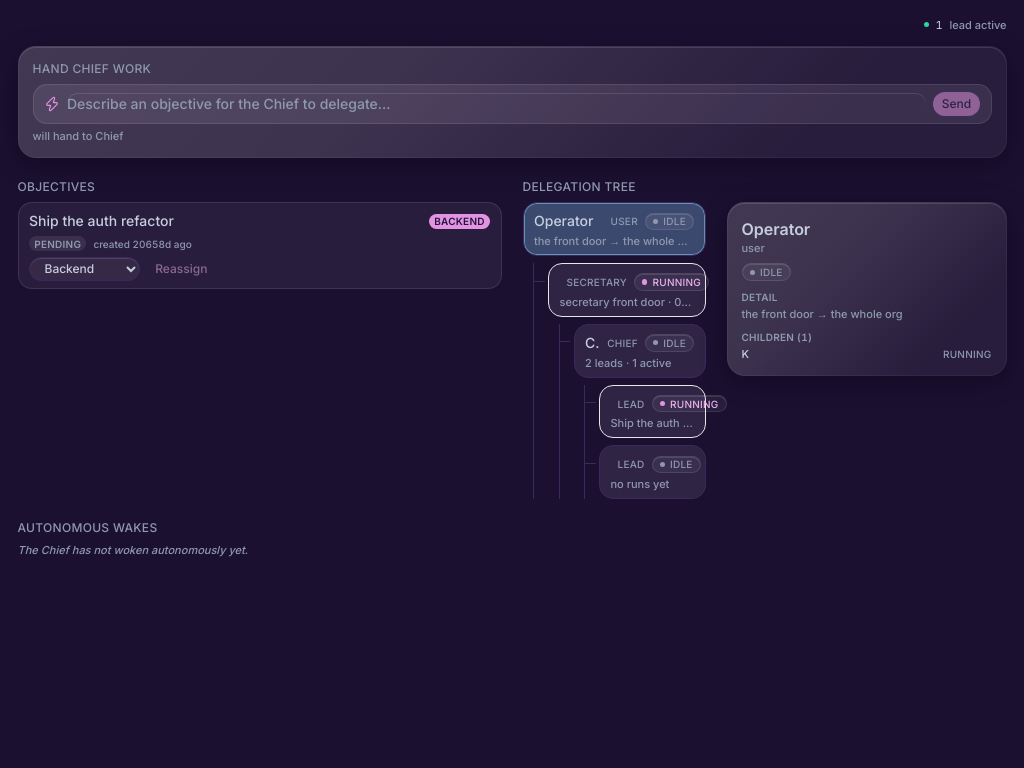
Scenario: ChiefPage — inspector actions › an idle lead node offers Open lead but no View/Stop run (no run to act on)
What coordinates should you click on to do the following:
click the button with test id "delegation-tree-node-lead-systems"
I would click on:
 (652, 472)
Its box is x1=599 y1=445 x2=706 y2=499.
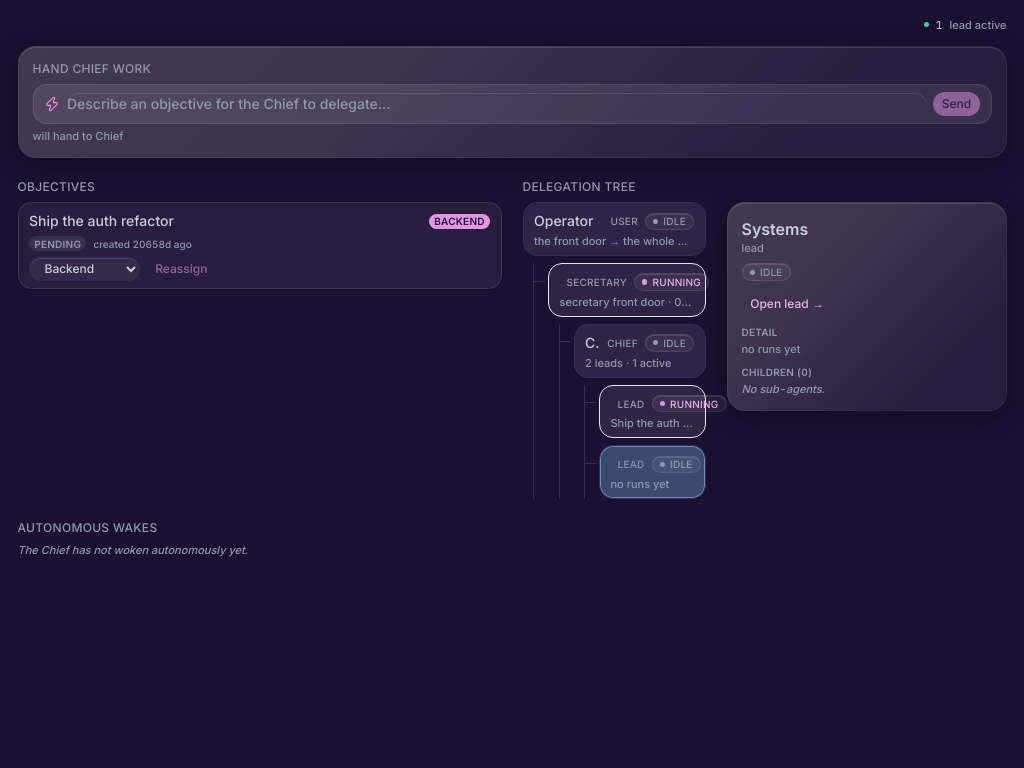
Expected: the button with test id "chief-open-lead" is shown, x1=742 y1=291 x2=833 y2=316
